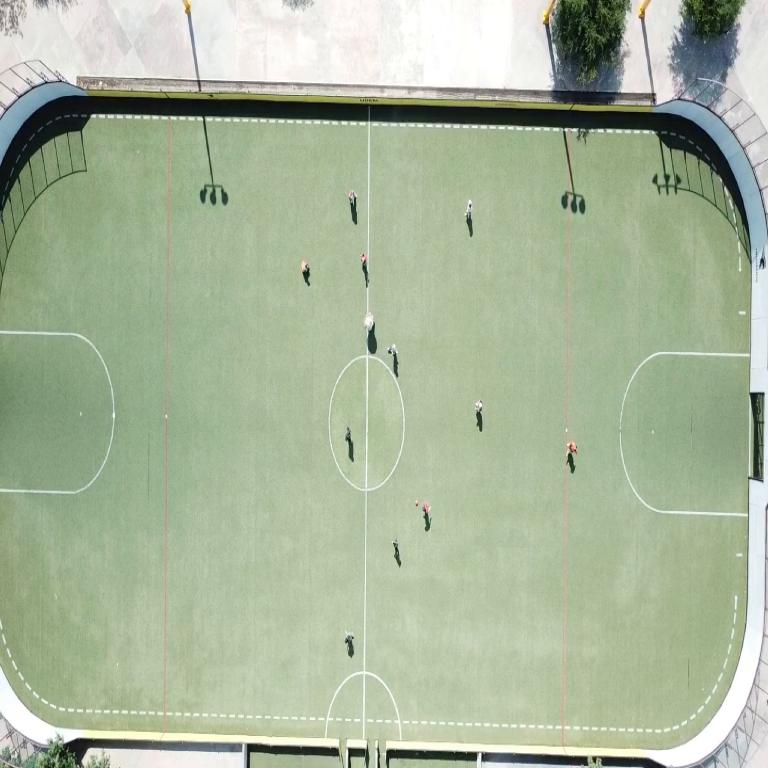AC: (619, 351, 748, 515), (0, 330, 115, 494)
B: (415, 498, 419, 506)
MC: (362, 339, 369, 739)
P: (364, 310, 374, 331), (345, 633, 354, 655), (393, 538, 400, 561), (567, 440, 577, 455), (465, 200, 472, 219), (388, 344, 397, 357), (301, 260, 309, 274), (349, 190, 356, 205), (345, 427, 351, 443), (361, 253, 367, 268), (424, 502, 430, 516), (476, 400, 482, 413)
